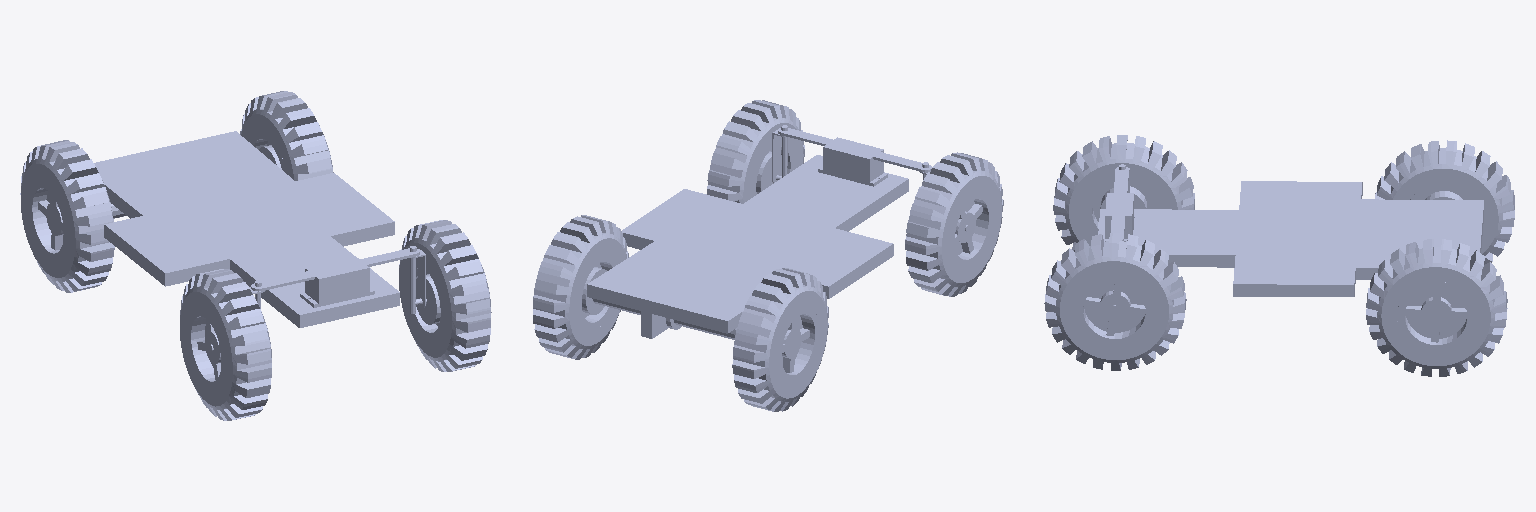
URDF robot description (toycar):
<?xml version="1.0" encoding="utf-8"?>
<!-- This URDF was automatically created by SolidWorks to URDF Exporter! Originally created by Stephen Brawner ([email redacted])
     Commit Version: 1.5.1-0-g916b5db  Build Version: 1.5.7152.31018
     For more information, please see http://wiki.ros.org/sw_urdf_exporter -->
<robot
  name="toycar">

  <link
    name= "base_link">
    <inertial>
      <origin
        xyz="0 0 0"
        rpy="0 0 0" />
        <mass
          value="0" />
        <inertia
            ixx="0"
            ixy="0"
            ixz="0"
            iyy="0"
            iyz="0"
            izz="0" />
    </inertial>
</link>

<link
   name="chassis">
   <inertial>
     <origin
       xyz="0.0241188787709006 0.339275877267529 0.136452263986166"
       rpy="0 0 0" />
     <mass
       value="6.07369475191247" />
     <inertia
       ixx="0.199859996733927"
       ixy="-0.00592977849224241"
       ixz="0.000121044729954876"
       iyy="0.0632502425937498"
       iyz="-0.00019062810770948"
       izz="0.261940285351003" />
   </inertial>
   <visual>
     <origin
       xyz="0 0 0"
       rpy="0 0 0" />
     <geometry>
       <mesh
         filename="package://toycar/meshes/base_link.STL" />
     </geometry>
     <material
       name="">
       <color
         rgba="0.792156862745098 0.819607843137255 0.933333333333333 1" />
     </material>
   </visual>
   <collision>
     <origin
       xyz="0 0 0"
       rpy="0 0 0" />
     <geometry>
       <mesh
         filename="package://toycar/meshes/base_link.STL" />
     </geometry>
   </collision>
 </link>

  <joint name="dummy_joint" type="fixed">
   <origin xyz="0 0 0" rpy="0 0 0" />
     <parent link="base_link" />
     <child link="chassis" />
   </joint>

  <link
    name="rearwheels">
    <inertial>
      <origin
        xyz="0.0111576543182809 0 2.22044604925031E-16"
        rpy="0 0 0" />
      <mass
        value="6.41319229751498" />
      <inertia
        ixx="0.046142380219855"
        ixy="-3.09294080689908E-17"
        ixz="-3.72694496791892E-18"
        iyy="0.039264169278568"
        iyz="-4.25146029492396E-14"
        izz="0.0392641692789027" />
    </inertial>
    <visual>
      <origin
        xyz="0 0 0"
        rpy="0 0 0" />
      <geometry>
        <mesh
          filename="package://toycar/meshes/BackWheels.STL" />
      </geometry>
      <material
        name="">
        <color
          rgba="0.792156862745098 0.819607843137255 0.933333333333333 1" />
      </material>
    </visual>
    <collision>
      <origin
        xyz="0 0 0"
        rpy="0 0 0" />
      <geometry>
        <mesh
          filename="package://toycar/meshes/BackWheels.STL" />
      </geometry>
      <surface>
         <friction>
           <ode>
             <mu>1</mu>
             <mu2>1</mu2>
             <slip1>1.0</slip1>
             <slip2>1.0</slip2>
           </ode>
         </friction>
       </surface>
    </collision>
  </link>
  <joint
    name="rearwheelsjoints"
    type="continuous">
    <origin
      xyz="0.0201777389587092 0.601562335047845 0.0989439985702869"
      rpy="-2.47267900414952 0.000241654950491605 -0.0334899291809578" />
    <parent
      link="chassis" />
    <child
      link="rearwheels" />
    <axis
      xyz="1 0 0" />
  </joint>

  <link
      name="left_frontaxis">
      <inertial>
        <origin
          xyz="0.0598412336760783 0.0127086096639484 0.000767583257256677"
          rpy="0 0 0" />
        <mass
          value="0.0264454012938846" />
        <inertia
          ixx="1.6559252267172E-05"
          ixy="-5.78750185557747E-09"
          ixz="1.13101078043734E-05"
          iyy="5.31172369034804E-05"
          iyz="4.39121888519462E-09"
          izz="3.76887713500634E-05" />
      </inertial>
      <visual>
        <origin
          xyz="0 0 0"
          rpy="0 0 0" />
        <geometry>
          <mesh
            filename="package://toycar/meshes/FrontLeftAxis.STL" />
        </geometry>
        <material
          name="">
          <color
            rgba="0.792156862745098 0.819607843137255 0.933333333333333 1" />
        </material>
      </visual>
      <collision>
        <origin
          xyz="0 0 0"
          rpy="0 0 0" />
        <geometry>
          <mesh
            filename="package://toycar/meshes/FrontLeftAxis.STL" />
        </geometry>
        <surface>
           <friction>
             <ode>
               <mu>0</mu>
               <mu2>0</mu2>
               <slip1>1.0</slip1>
               <slip2>1.0</slip2>
             </ode>
           </friction>
         </surface>
      </collision>
    </link>
    <joint
      name="left_frontaxisjoint"
      type="continuous">
      <origin
        xyz="0.177034738623057 0.0120986853676059 0.193482353849969"
        rpy="-1.51998322811927 1.56357935312313 1.5707963267949" />
      <parent
        link="chassis" />
      <child
        link="left_frontaxis" />
      <axis
        xyz="1 0 0" />
        <limit
          effort ="3" velocity = "100" />
          <joint_properties
            damping = "0" friction="0" />
    </joint>

  <link
    name="Frontleftwheel">
    <inertial>
      <origin
        xyz="3.33066907387547E-16 2.22044604925031E-16 -0.0428558952184119"
        rpy="0 0 0" />
      <mass
        value="2.87379121230964" />
      <inertia
        ixx="0.012756073626077"
        ixy="-1.0842021724855E-19"
        ixz="-6.4290488910871E-17"
        iyy="0.0127560736304397"
        iyz="3.92519302922379E-17"
        izz="0.0229842358703436" />
    </inertial>
    <visual>
      <origin
        xyz="0 0 0"
        rpy="0 0 0" />
      <geometry>
        <mesh
          filename="package://toycar/meshes/FrontLeftWheel.STL" />
      </geometry>
      <material
        name="">
        <color
          rgba="0.792156862745098 0.819607843137255 0.933333333333333 1" />
      </material>
    </visual>
    <collision>
      <origin
        xyz="0 0 0"
        rpy="0 0 0" />
      <geometry>
        <mesh
          filename="package://toycar/meshes/FrontLeftWheel.STL" />
      </geometry>
      <surface>
         <friction>
           <ode>
             <mu>1</mu>
             <mu2>1</mu2>
             <slip1>1.0</slip1>
             <slip2>1.0</slip2>
           </ode>
         </friction>
       </surface>
    </collision>
  </link>
  <joint
    name="FrontLeftWheelJoint"
    type="continuous">
    <origin
      xyz="0.0948370570476664 0.012720099573045 0"
      rpy="0 0 1.69640163131793" />
    <parent
      link="left_frontaxis" />
    <child
      link="Frontleftwheel" />
    <axis
      xyz="0 0 -1" />
      <limit
        effort ="3" velocity = "100" />
        <joint_properties
          damping = "0" friction="0" />
  </joint>





    <link
      name="right_frontaxis">
      <inertial>
        <origin
          xyz="0.0598412338486167 0.012708609118278 0.000767583513073933"
          rpy="0 0 0" />
        <mass
          value="0.0264453987258006" />
        <inertia
          ixx="1.6559252141181E-05"
          ixy="-5.78780484038068E-09"
          ixz="1.13101075264565E-05"
          iyy="5.31172367782986E-05"
          iyz="4.39116256255814E-09"
          izz="3.76887708835088E-05" />
      </inertial>
      <visual>
        <origin
          xyz="0 0 0"
          rpy="0 0 0" />
        <geometry>
          <mesh
            filename="package://toycar/meshes/FrontRightAxies.STL" />
        </geometry>
        <material
          name="">
          <color
            rgba="0.792156862745098 0.819607843137255 0.933333333333333 1" />
        </material>
      </visual>
      <collision>
        <origin
          xyz="0 0 0"
          rpy="0 0 0" />
        <geometry>
          <mesh
            filename="package://toycar/meshes/FrontRightAxies.STL" />
        </geometry>
        <surface>
           <friction>
             <ode>
               <mu>0</mu>
               <mu2>0</mu2>
               <slip1>1.0</slip1>
               <slip2>1.0</slip2>
             </ode>
           </friction>
         </surface>
      </collision>
    </link>
  <joint
    name="right_frontaxisjoint"
    type="continuous">
    <origin
      xyz="-0.166858898254902 -0.00113083578090145 0.193386875086483"
      rpy="1.6216094254706 1.56357935312316 1.57079632679497" />
    <parent
      link="chassis" />
    <child
      link="right_frontaxis" />
    <axis
      xyz="1 0 0" />
      <limit
        effort ="3" velocity = "100" />
        <joint_properties
          damping = "0" friction="0" />
  </joint>
<!-- 5 100/-->

  <link
    name="Frontrightwheel">
    <inertial>
      <origin
        xyz="1.66533453693773E-16 2.22044604925031E-16 -0.0428558952184105"
        rpy="0 0 0" />
      <mass
        value="2.87379121230965" />
      <inertia
        ixx="0.012756073626077"
        ixy="2.47198095326695E-17"
        ixz="-4.89765038014277E-17"
        iyy="0.0127560736304397"
        iyz="-2.31100234164127E-17"
        izz="0.0229842358703436" />
    </inertial>
    <visual>
      <origin
        xyz="0 0 0"
        rpy="0 0 0" />
      <geometry>
        <mesh
          filename="package://toycar/meshes/FrontRightWheel.STL" />
      </geometry>
      <material
        name="">
        <color
          rgba="0.792156862745098 0.819607843137255 0.933333333333333 1" />
      </material>
    </visual>
    <collision>
      <origin
        xyz="0 0 0"
        rpy="0 0 0" />
      <geometry>
        <mesh
          filename="package://toycar/meshes/FrontRightWheel.STL" />
           </geometry>
      <surface>
         <friction>
           <ode>
             <mu>1</mu>
             <mu2>1</mu2>
             <slip1>1.0</slip1>
             <slip2>1.0</slip2>
           </ode>
         </friction>
       </surface>
    </collision>
  </link>
  
<joint
    name="FrontRightWheelJoint"
    type="continuous">
    <origin
      xyz="0.0948370570476667 0.0127200995730463 0"
      rpy="0 0 -1.93863854690982" />
    <parent
      link="right_frontaxis" />
    <child
      link="Frontrightwheel" />
    <axis
      xyz="0 0 1" />
      <limit
        effort ="3" velocity = "100" />
        <joint_properties
          damping = "0" friction="0" />
  </joint>

<transmission name="transmission1">
<type>transmission_interface/SimpleTransmission</type>
<joint name="FrontRightWheelJoint">
<hardwareInterface>hardware_interface/VelocityJointInterface</hardwareInterface>
</joint>
<actuator name="Frontrightwheel">
<mechanicalReduction>1</mechanicalReduction>
<hardwareInterface>hardware_interface/VelocityJointInterface</hardwareInterface>
</actuator>
</transmission>

<transmission name="transmission2">
<type>transmission_interface/SimpleTransmission</type>
<joint name="FrontLeftWheelJoint">
<hardwareInterface>hardware_interface/VelocityJointInterface</hardwareInterface>
</joint>
<actuator name="Frontleftwheel">
<mechanicalReduction>1</mechanicalReduction>
<hardwareInterface>hardware_interface/VelocityJointInterface</hardwareInterface>
</actuator>
</transmission>


 
<transmission name="transmission4">
<type>transmission_interface/SimpleTransmission</type>
<joint name="right_frontaxisjoint">
<hardwareInterface>EffortJointInterface</hardwareInterface>
</joint>
<actuator name="Frontrightwheel_Axis">
<hardwareInterface>EffortJointInterface</hardwareInterface>
<mechanicalReduction>1</mechanicalReduction>
</actuator>
</transmission>

<transmission name="transmission5">
<type>transmission_interface/SimpleTransmission</type>
<joint name="left_frontaxisjoint">
<hardwareInterface>EffortJointInterface</hardwareInterface>
</joint>
<actuator name="Frontleftwheel_Axis">
<hardwareInterface>EffortJointInterface</hardwareInterface>
<mechanicalReduction>1</mechanicalReduction>
</actuator>
</transmission>

<gazebo>
<plugin name="gazebo_ros_control" filename="libgazebo_ros_control.so">
<robotNamespace>/toycar</robotNamespace>
<legacyModeNS>true</legacyModeNS>
</plugin>
</gazebo>


<link 
name="base_laser">
<inertial>
<origin xyz="-0.00029774 0.0066667 0.00013047" rpy="0 0 0"/>
<mass value="0.15717"/>
<inertia ixx="6.7885E-05" ixy="-1.3987E-07" ixz="-8.1554E-07" iyy="0.00013173" iyz="-9.0932E-08" izz="7.1972E-05"/>
</inertial>
<visual>
<origin xyz="0 0 0" rpy="0 0 0"/>
<geometry>
<mesh filename="package://toycar/meshes/ydlidar.dae"/>
</geometry>
<material name="">
<color rgba="0.64706 0.61961 0.58824 1"/>
</material>
</visual>
<collision>
<origin xyz="0 0 0" rpy="0 0 0"/>
<geometry>
<mesh filename="package://toycar/meshes/ydlidar.dae"/>
</geometry>
<surface>
<friction>
<ode>
<mu>0</mu>
<mu2>0</mu2>
<slip1>1.0</slip1>
<slip2>1.0</slip2>
</ode>
</friction>
</surface>
</collision>
</link>
<joint name="laser_joint" type="continuous">
<origin xyz="0 0 0.30" rpy="0 0 0"/>
<parent link="chassis"/>
<child link="base_laser"/>
<axis xyz="0 0 1"/>
</joint>


<gazebo reference="base_laser">

<sensor type="ray" name="base_laser">
<pose>0 0 0 0 0 0</pose>
<visualize>true</visualize>
<update_rate>100</update_rate>
<ray>
<scan>
<horizontal>
<samples>720</samples>
<resolution>1</resolution>
<min_angle>-1.570796</min_angle>
<max_angle>1.570796</max_angle>
</horizontal>
</scan>
<range>
<min>0.10</min>
<max>10.0</max>
<resolution>1</resolution>
</range>
</ray>
<plugin name="libgazebo_ros_laser_lidar" filename="libgazebo_ros_laser.so">
<topicName>/scan</topicName>
<frameName>chassis</frameName>
</plugin>
</sensor>
</gazebo>

<joint name="imu_joint" type="fixed">
<axis xyz="1 0 0"/> 
<origin xyz="0 0 0.19"/>
<parent link="chassis"/>
<child link="imu_link"/>
</joint>


<link name="imu_link">
  <inertial>
    <mass value="0.001"/>
    <origin rpy="0 0 0" xyz="0 0 0"/>
    <inertia ixx="0.0001" ixy="0" ixz="0" iyy="0.000001" iyz="0" izz="0.0001"/>
  </inertial>
  <visual>
    <origin rpy="0 0 0" xyz="0 0 0"/>
    <geometry>
      <box size="0.001 0.001 0.001"/>
    </geometry>
  </visual>
  <collision>
    <origin rpy="0 0 0" xyz="0 0 0"/>
    <geometry>
      <box size=".001 .001 .001"/>
    </geometry>
  </collision>
</link>

<gazebo reference="base_laser">
<gravity>true</gravity>
<sensor name="imu_sensor" type="imu">
<always_on>true</always_on>
<update_rate>100</update_rate>
<visualize>true</visualize>
<topic>__default_topic__</topic>
<plugin filename="libgazebo_ros_imu_sensor.so" name="imu_plugin">
<topicName>imu</topicName>
<bodyName>base_link</bodyName>
<updateRateHZ>10.0</updateRateHZ>
<gaussianNoise>0.0</gaussianNoise>
<xyzOffset>0 0 0</xyzOffset>
<rpyOffset>0 0 0</rpyOffset>
<frameName>imu_link</frameName>
<initialOrientationAsReference>false</initialOrientationAsReference>
</plugin>
<pose>0 0 0 0 0 0</pose>
</sensor>
</gazebo>



</robot>

--- What the picture shows (computed from the rendered views, not written in the file) ---
3 views of the same robot in one strip: view 1: azimuth 30°, elevation 25°; view 2: azimuth 150°, elevation 25°; view 3: azimuth 270°, elevation 25° (orthographic).
Model toycar with 9 links and 8 joints (6 continuous, 2 fixed), rooted at base_link, posed every joint at zero.
Visible links, largest first — view 1: chassis, rearwheels, Frontrightwheel, Frontleftwheel, left_frontaxis; view 2: chassis, rearwheels, Frontrightwheel, Frontleftwheel, left_frontaxis; view 3: chassis, rearwheels, Frontleftwheel, Frontrightwheel.
Boxes of the visible links, x1,y1,x2,y2 form: chassis: [94, 131, 419, 327]; rearwheels: [20, 91, 333, 292]; Frontrightwheel: [180, 269, 271, 420]; Frontleftwheel: [399, 220, 491, 371]; left_frontaxis: [410, 246, 426, 313]; chassis: [587, 128, 931, 338]; rearwheels: [533, 215, 828, 411]; Frontrightwheel: [905, 152, 1003, 296]; Frontleftwheel: [707, 100, 804, 203]; left_frontaxis: [772, 125, 787, 183]; chassis: [1098, 167, 1483, 296]; rearwheels: [1366, 140, 1514, 376]; Frontleftwheel: [1044, 233, 1186, 370]; Frontrightwheel: [1053, 135, 1194, 251].
Size in the robot's own frame: 0.5427 by 0.8739 by 0.262 metres.
6 mesh visuals loaded from 7 distinct referenced files (6 binary STL); not drawn: 1 (reference not matched to a file when rendering).
